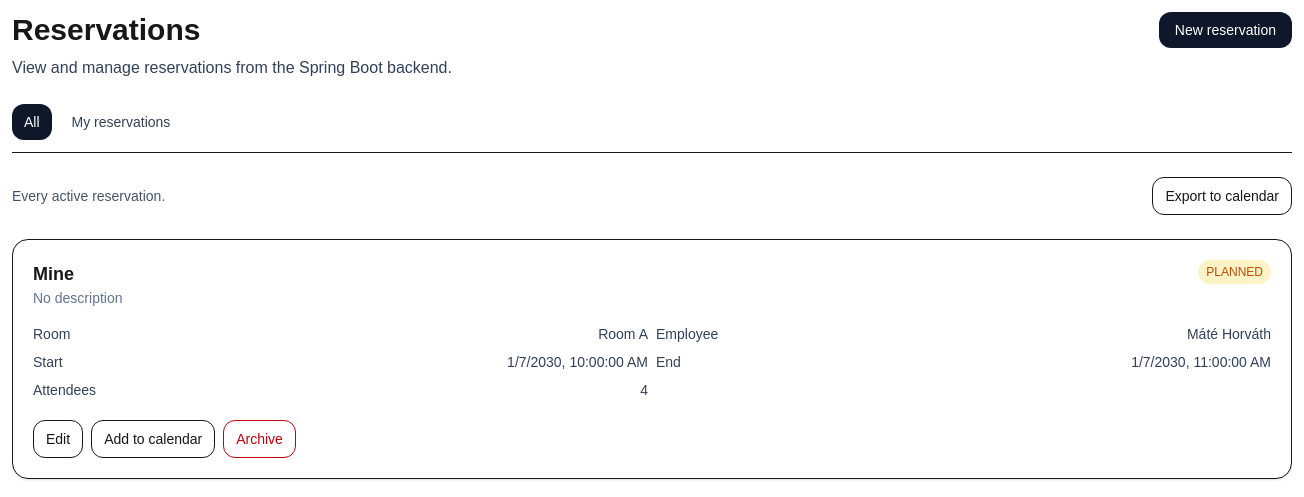
Test: ReservationsPage › archives only after confirmation
Check: the heading "Mine" is shown, box top-left (33, 264), bottom-right (74, 284)
What coordinates should you click on to do the following:
click the button "Archive"
I would click on:
 (260, 439)
Its box is top-left (223, 420), bottom-right (296, 458).
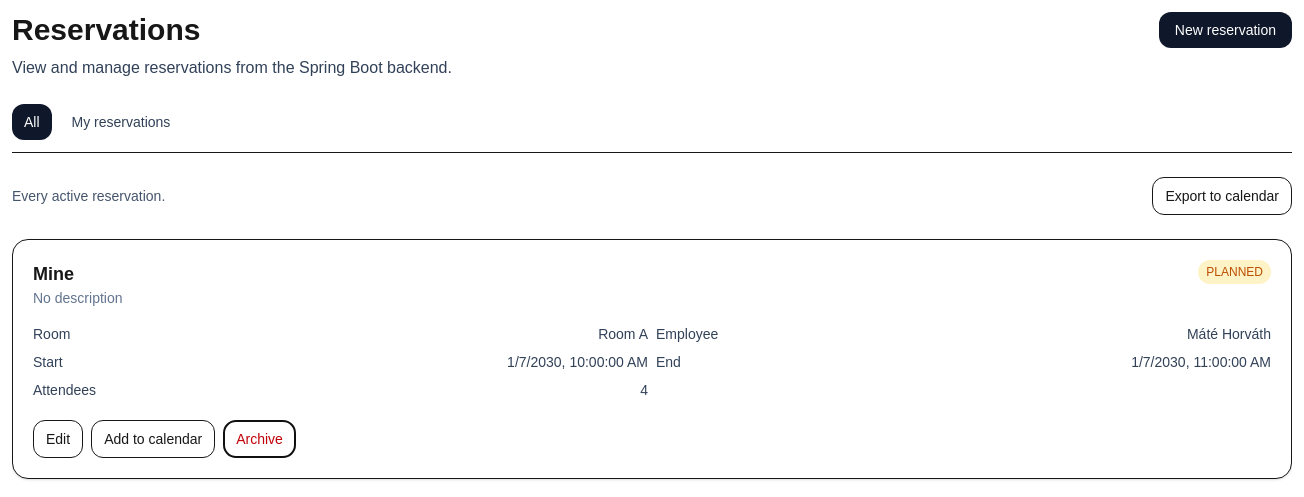
What coordinates should you click on to do the following:
click the button "Archive"
I would click on:
 (260, 439)
Its box is top-left (223, 420), bottom-right (296, 458).
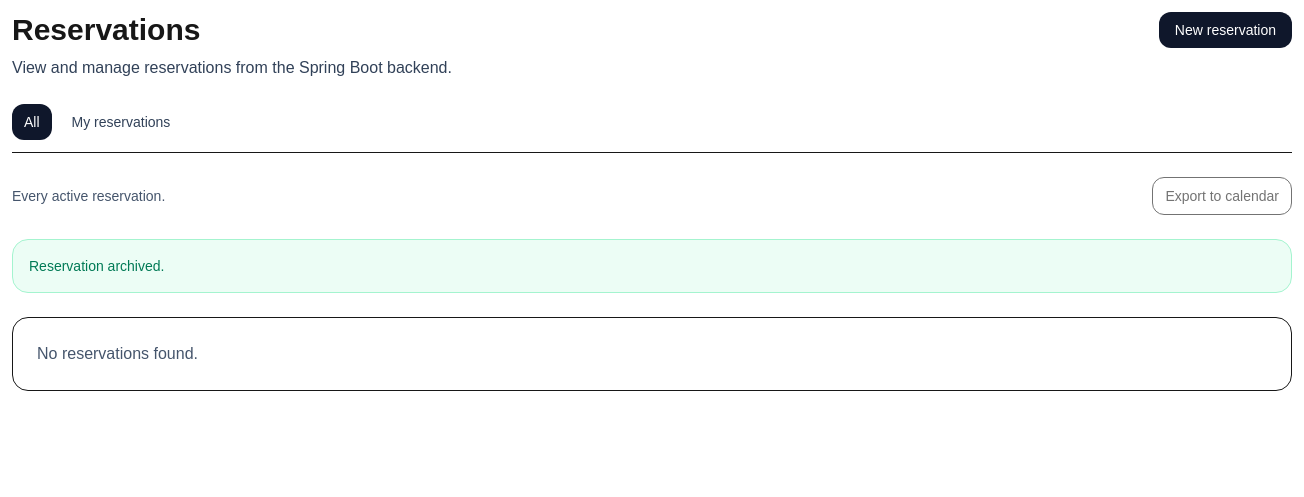
Check: the text "Reservation archived." is shown, box top-left (29, 258), bottom-right (164, 274)
Check: the heading "Mine" is gone
